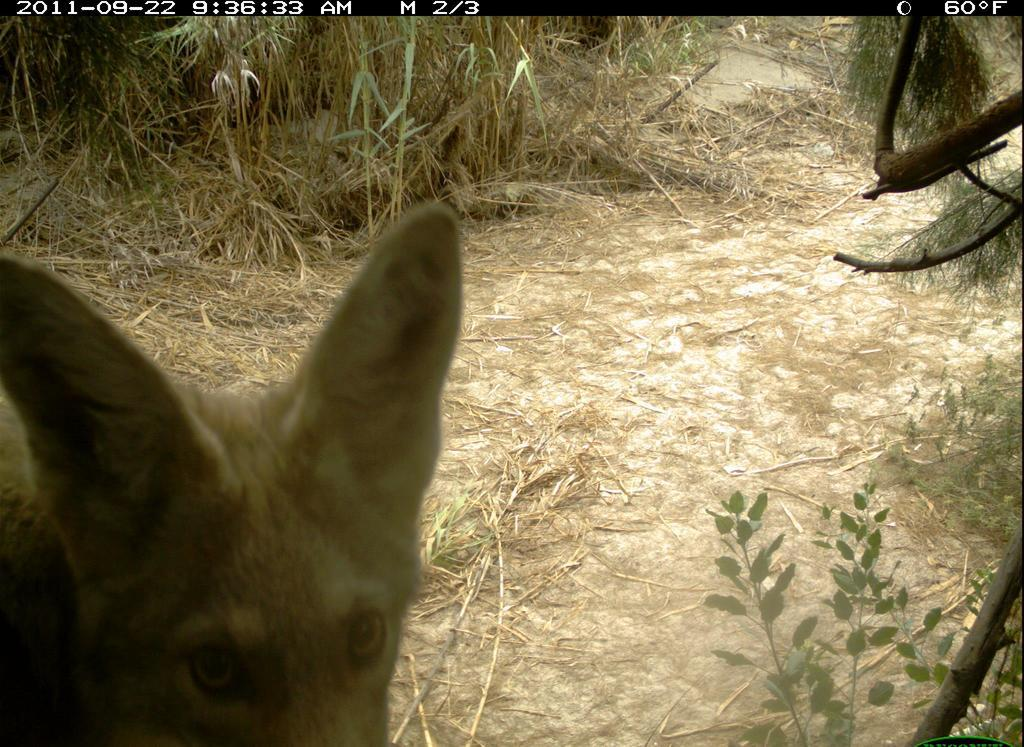coyote: (4, 196, 465, 745)
